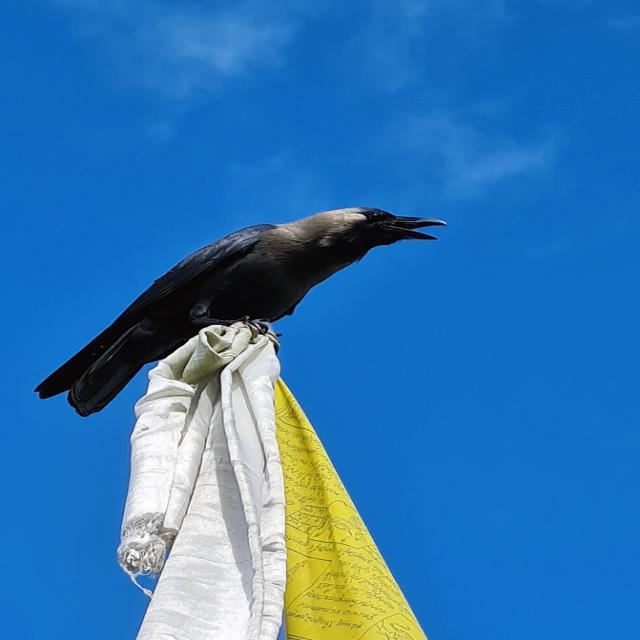bird: (28, 200, 458, 424)
